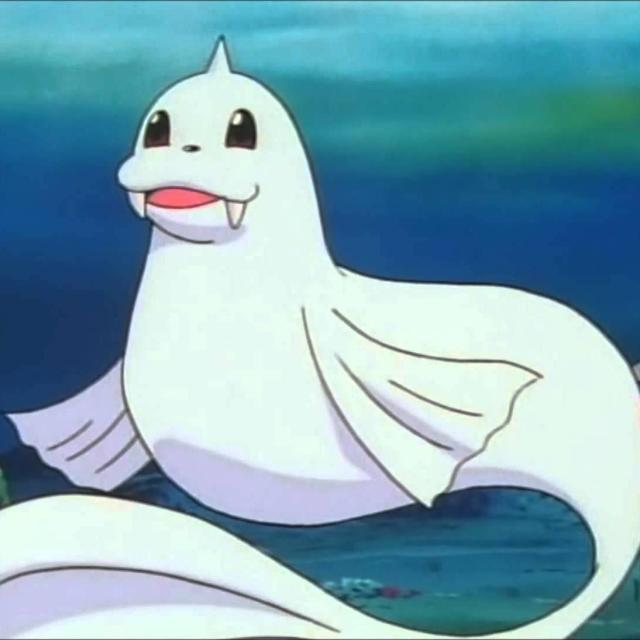Dewgong: (108, 64, 566, 525)
